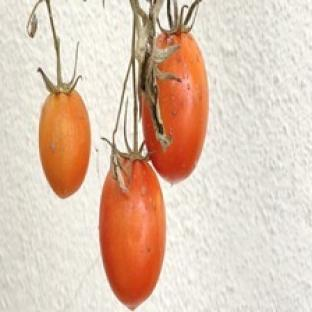Tomato: (99, 161, 165, 309), (143, 34, 208, 183), (39, 91, 90, 197)
